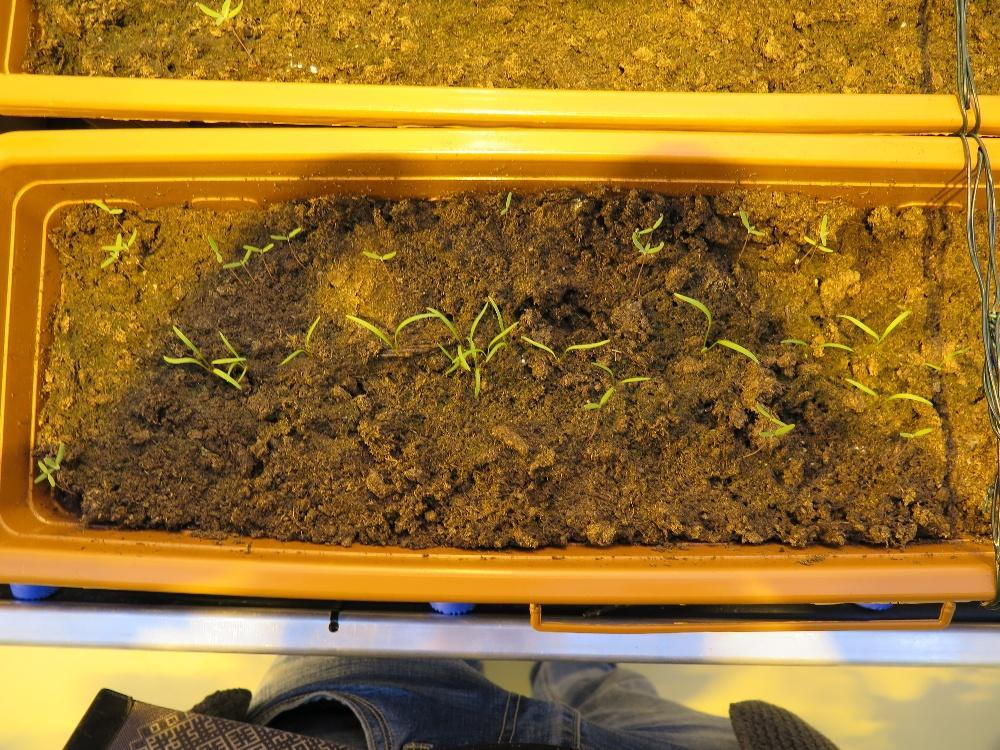crop: (671, 290, 759, 367), (841, 374, 933, 406), (834, 306, 914, 341), (517, 333, 610, 360), (279, 312, 321, 365), (588, 357, 653, 385), (776, 335, 854, 354)
weed: (737, 205, 766, 235), (581, 385, 614, 410), (89, 196, 123, 214), (267, 224, 302, 240), (205, 234, 221, 263), (360, 248, 396, 260), (895, 426, 934, 437), (498, 189, 511, 215)
